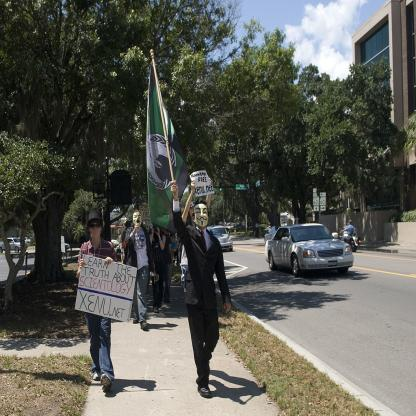Car: (267, 223, 355, 276), (212, 225, 232, 250), (5, 235, 27, 254)
